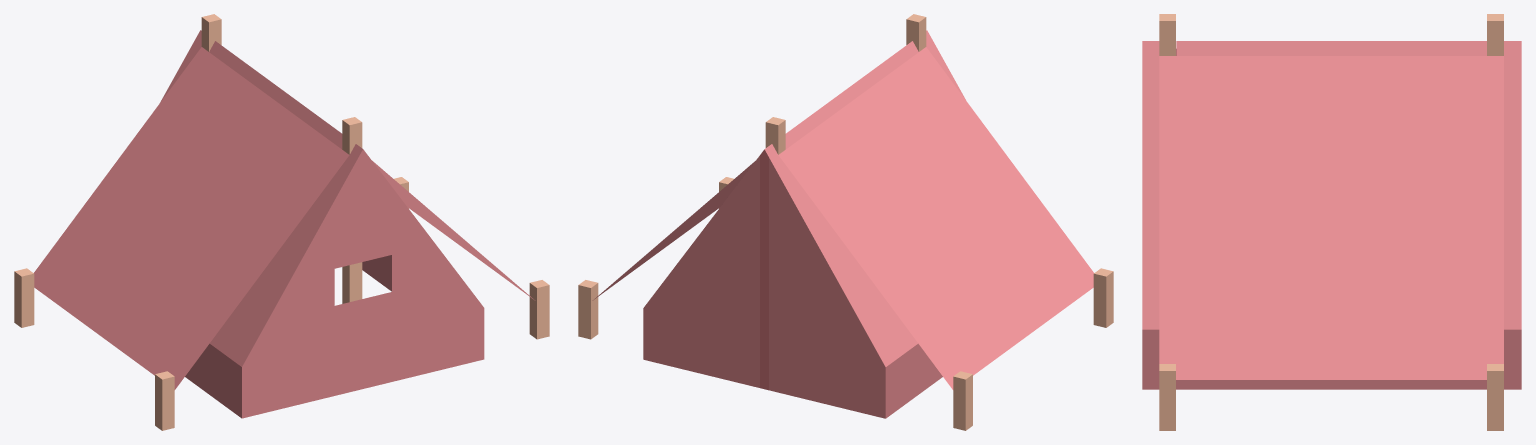
The model's file is tent_detailedClosed.glb.
3 views of the same model, side by side, from view 1: azimuth 30°, elevation 25°; view 2: azimuth 150°, elevation 25°; view 3: azimuth 270°, elevation 25° (orthographic). The views are drawn at different scales.
Visible parts, largest first — view 1: tent_detailedClosed; view 2: tent_detailedClosed; view 3: tent_detailedClosed.
Boxes of the visible parts, left/top/right/bottom form: tent_detailedClosed: left=14, top=14, right=549, bottom=430; tent_detailedClosed: left=578, top=14, right=1113, bottom=430; tent_detailedClosed: left=1142, top=14, right=1521, bottom=430.
Bounding box in the file's own units: 0.8749 × 0.5611 × 0.6364.
